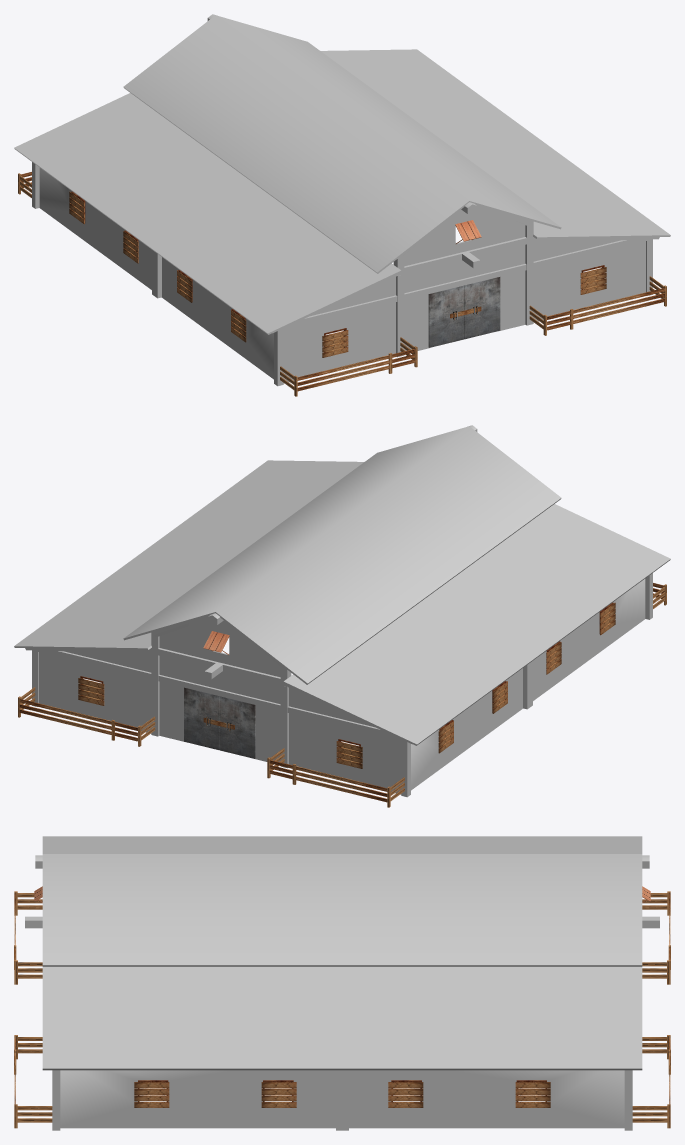
The model's file is establo.fbx.
3 views of the same model, one above another, from view 1: azimuth 30°, elevation 25°; view 2: azimuth 150°, elevation 25°; view 3: azimuth 270°, elevation 25° (orthographic). The views are drawn at different scales.
Visible parts, largest first — view 1: establo, puerta Establo 1, puerta Establo 2; view 2: establo, puerta principales.002, puerta principales.001; view 3: establo.
Part boxes in pixels (x1,y1,x2,y2): establo: (14, 14, 670, 396); puerta Establo 1: (428, 285, 464, 347); puerta Establo 2: (464, 277, 500, 339); establo: (14, 425, 670, 807); puerta principales.002: (219, 696, 255, 758); puerta principales.001: (184, 687, 219, 749); establo: (14, 836, 670, 1130).
Size of the model in its own units: 2520 by 853 by 3011.
